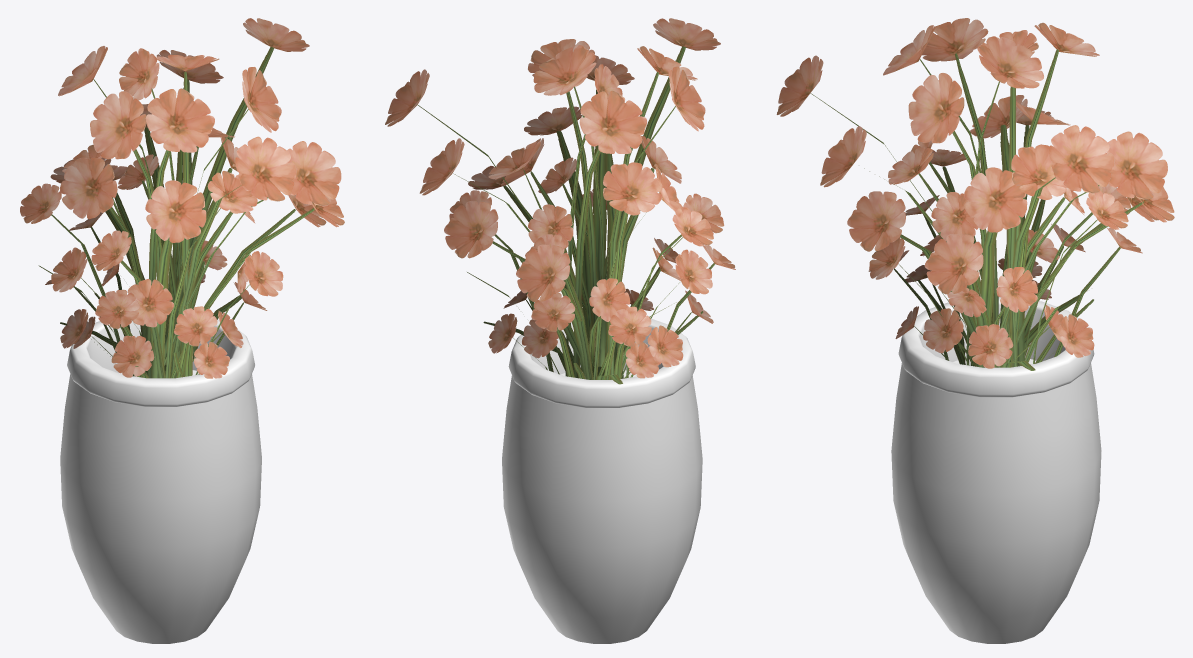
File: SM_Potted_Soft_Pink_Flower_C.fbx
3 views of the same model, side by side, from view 1: azimuth 30°, elevation 25°; view 2: azimuth 150°, elevation 25°; view 3: azimuth 270°, elevation 25° (orthographic). The views are drawn at different scales.
Parts seen in each view (by area): view 1: SM_Potted_Soft_Pink_Flower_C_LOD0; view 2: SM_Potted_Soft_Pink_Flower_C_LOD0; view 3: SM_Potted_Soft_Pink_Flower_C_LOD0.
Boxes of the visible parts, <box> form: SM_Potted_Soft_Pink_Flower_C_LOD0: <box>20,18,344,643</box>; SM_Potted_Soft_Pink_Flower_C_LOD0: <box>385,18,735,643</box>; SM_Potted_Soft_Pink_Flower_C_LOD0: <box>776,18,1174,643</box>.
Bounding box in the file's own units: 42.81 × 46.79 × 75.3.
2 materials, 1 textured.
